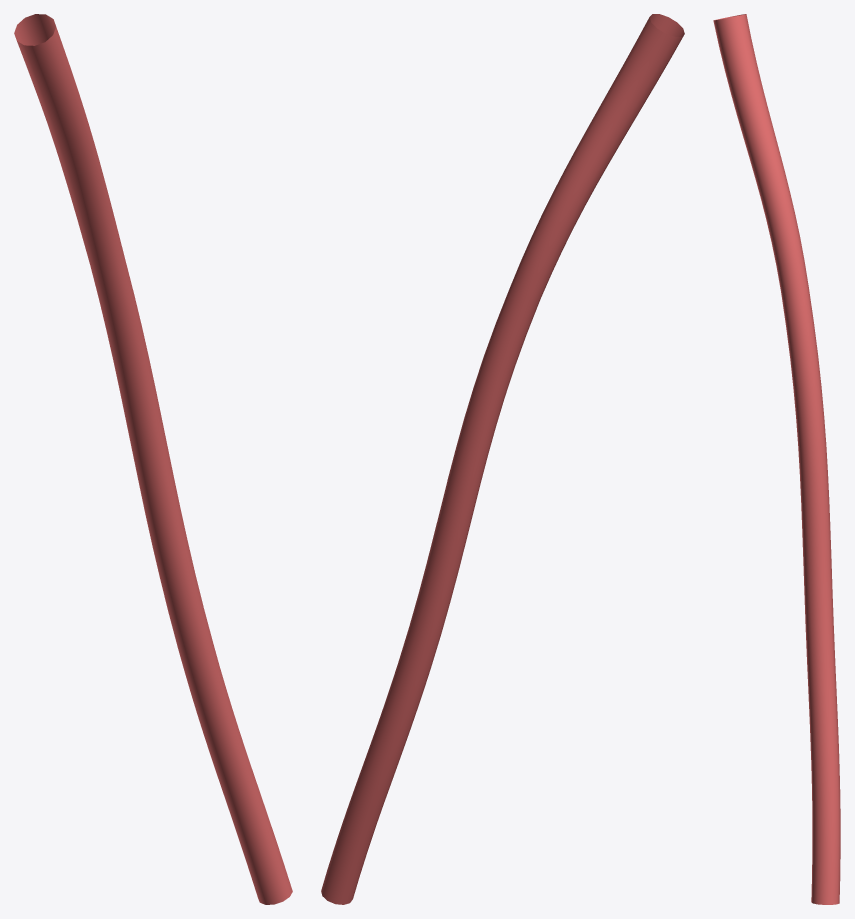
The model's file is Middle_collateral_artery.l_BezierCurve.165.glb.
The picture shows the model from 3 angles, left to right: view 1: azimuth 30°, elevation 25°; view 2: azimuth 150°, elevation 25°; view 3: azimuth 270°, elevation 25°; orthographic projection. The views are drawn at different scales.
Visible parts, largest first — view 1: Middle_collateral_artery.l_BezierCurve.165; view 2: Middle_collateral_artery.l_BezierCurve.165; view 3: Middle_collateral_artery.l_BezierCurve.165.
Part boxes in pixels (x1,y1,x2,y2): Middle_collateral_artery.l_BezierCurve.165: (14,14,292,904); Middle_collateral_artery.l_BezierCurve.165: (321,14,684,904); Middle_collateral_artery.l_BezierCurve.165: (713,14,840,904).
Size of the model in its own units: 0.0266 by 0.076 by 0.0112.
